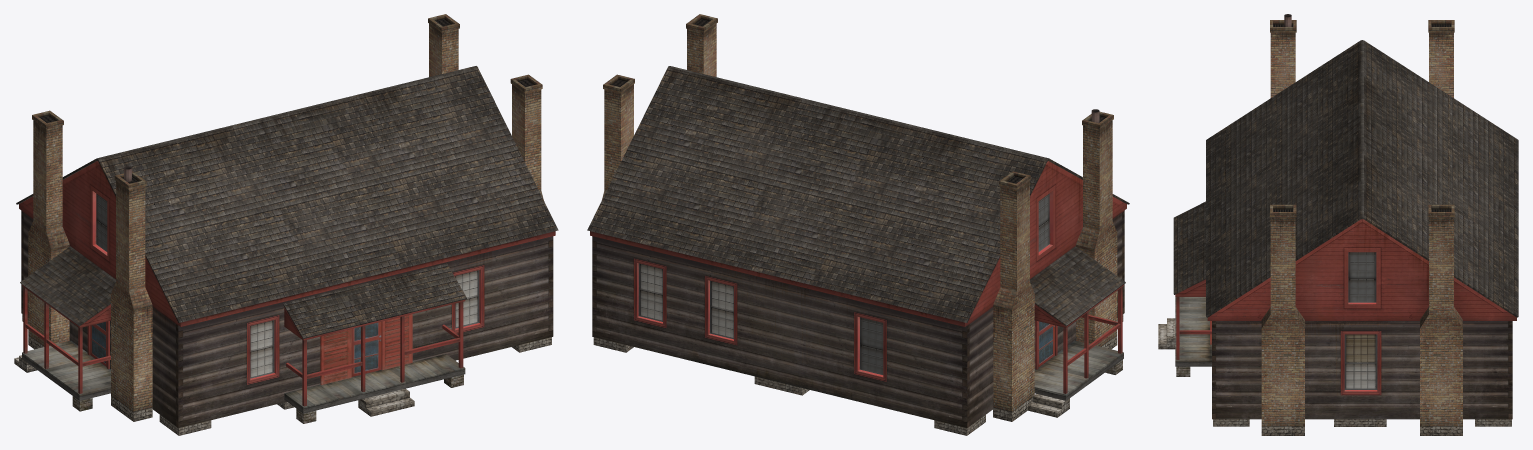
File: wooden_house_building.glb
The picture shows the model from 3 angles, left to right: view 1: azimuth 30°, elevation 25°; view 2: azimuth 150°, elevation 25°; view 3: azimuth 270°, elevation 25°; orthographic projection. The views are drawn at different scales.
Parts seen in each view (by area): view 1: House020_House20_0; view 2: House020_House20_0; view 3: House020_House20_0.
Part boxes in pixels (left/top/right/bottom): House020_House20_0: left=14, top=14, right=558, bottom=435; House020_House20_0: left=587, top=14, right=1129, bottom=435; House020_House20_0: left=1158, top=14, right=1518, bottom=435.
Size of the model in its own units: 13.3 by 6.92 by 9.76.
Materials: 1 (1 with a texture image).
